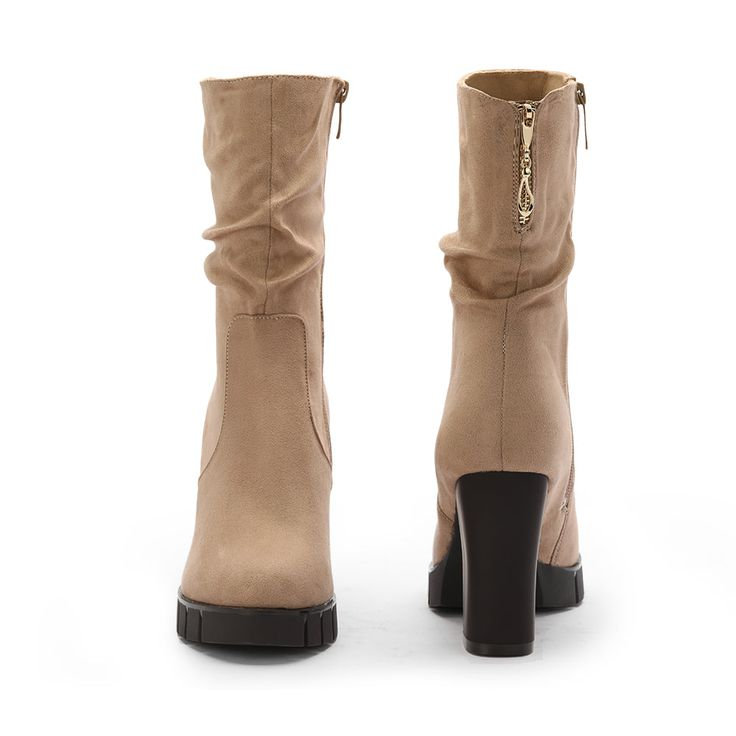gamuza: (179, 68, 585, 608)
